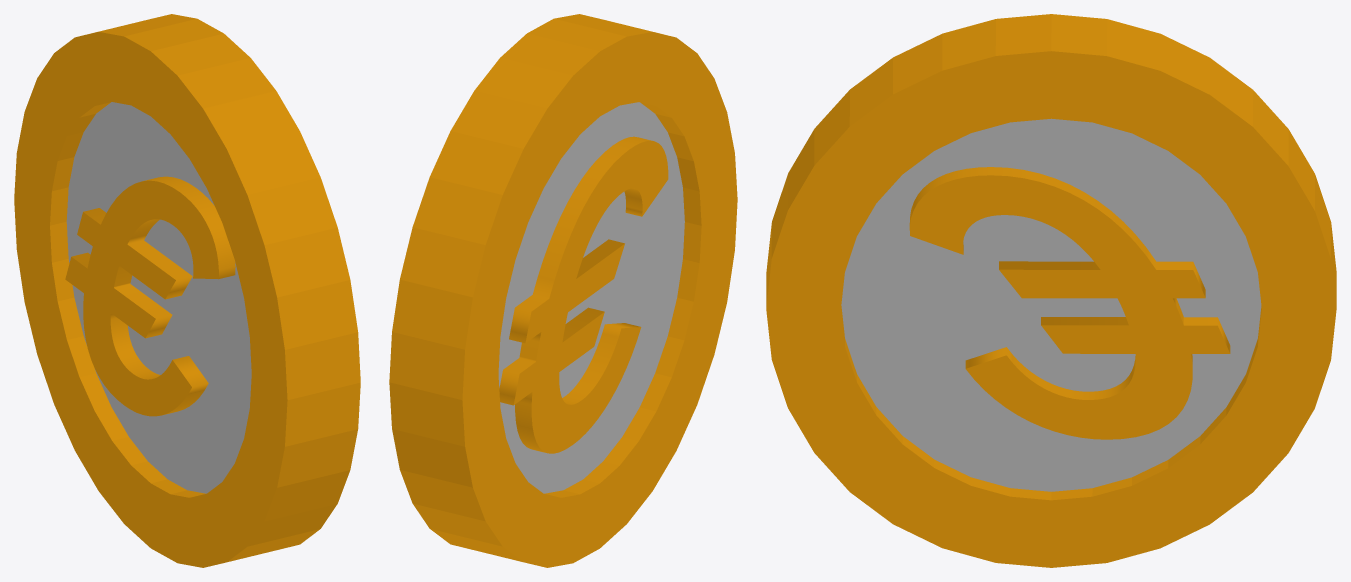
The picture shows the model from 3 angles, left to right: view 1: azimuth 30°, elevation 25°; view 2: azimuth 150°, elevation 25°; view 3: azimuth 270°, elevation 25°; orthographic projection. The views are drawn at different scales.
Parts seen in each view (by area): view 1: Cylinder, Cylinder.001, ret; view 2: Cylinder, Cylinder.001, ret; view 3: Cylinder, Cylinder.001, ret.
Part boxes in pixels (bbox=[...]): Cylinder: bbox=[14, 14, 360, 567]; Cylinder.001: bbox=[66, 102, 251, 493]; ret: bbox=[65, 176, 235, 416]; Cylinder: bbox=[389, 14, 737, 567]; Cylinder.001: bbox=[498, 102, 684, 493]; ret: bbox=[499, 136, 668, 453]; Cylinder: bbox=[766, 14, 1336, 567]; Cylinder.001: bbox=[841, 118, 1261, 491]; ret: bbox=[909, 167, 1230, 439].
Size of the model in its own units: 0.3119 by 2 by 2.
